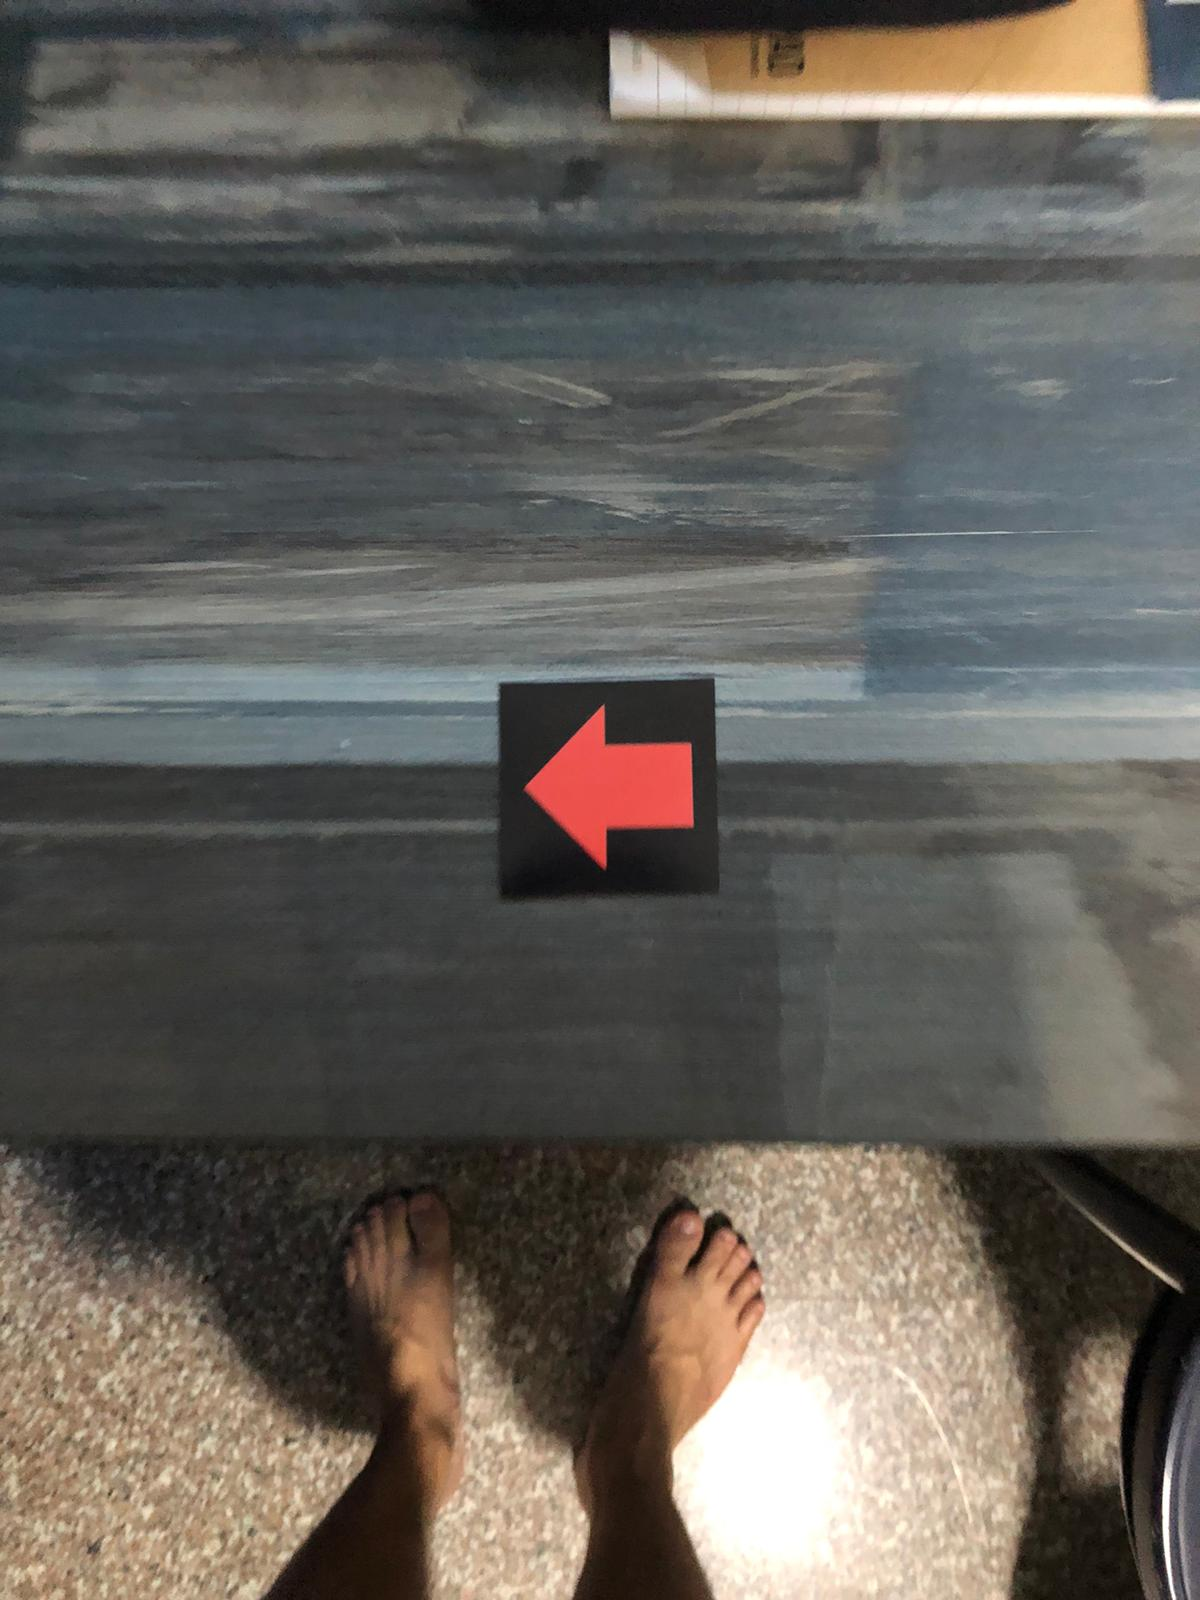Left Arrow: (500, 677, 711, 891)
